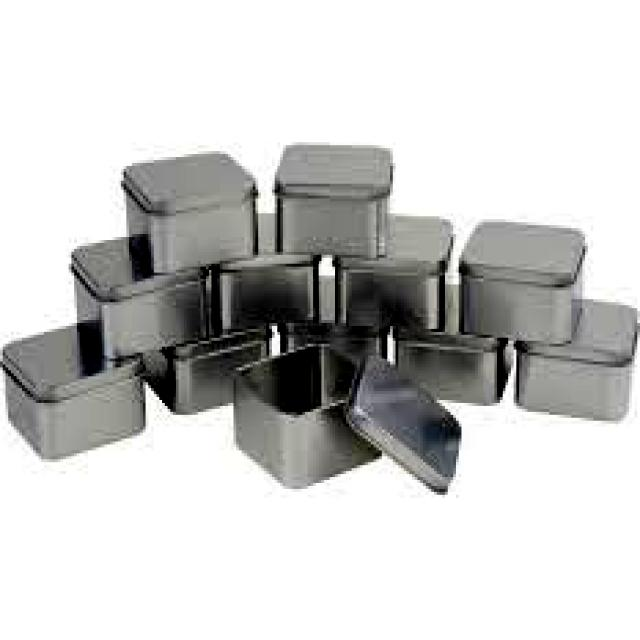Metal: (232, 342, 389, 487), (1, 322, 147, 464), (118, 147, 260, 271), (457, 218, 587, 342), (340, 210, 453, 342), (270, 141, 392, 259), (214, 248, 326, 327)
